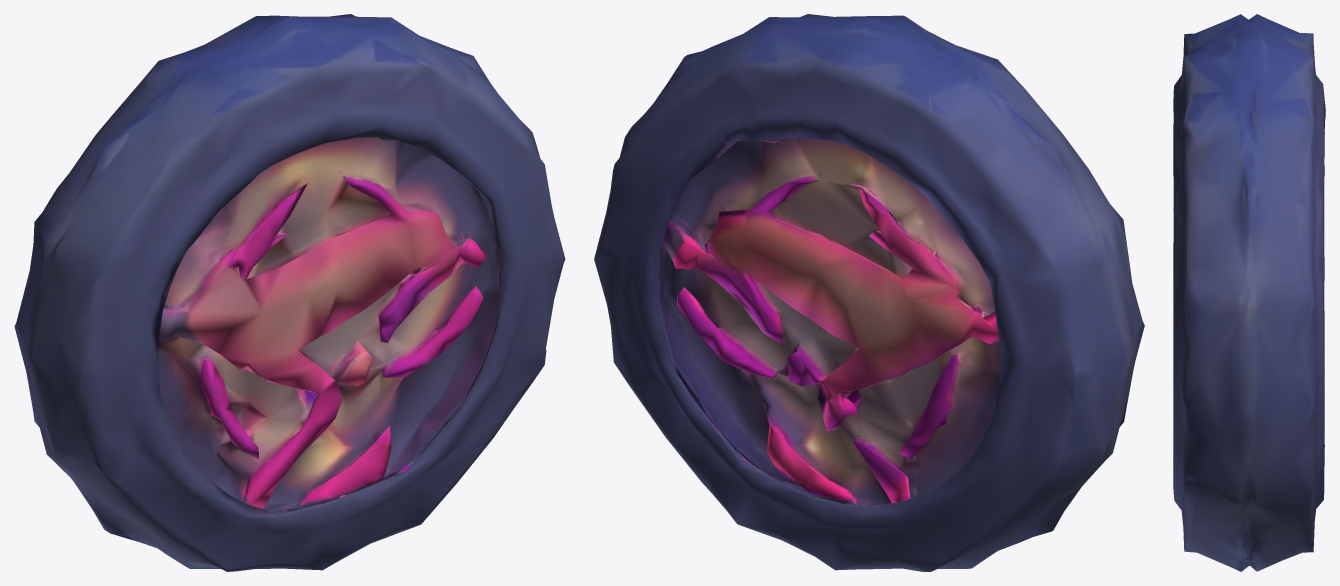
The model's file is coin-optimized.glb.
3 renders of one model, left to right at view 1: azimuth 30°, elevation 25°; view 2: azimuth 150°, elevation 25°; view 3: azimuth 270°, elevation 25°, orthographic. The views are drawn at different scales.
Size of the model in its own units: 1.42 by 1.42 by 0.3844.
Materials: 1 (1 with a texture image).
